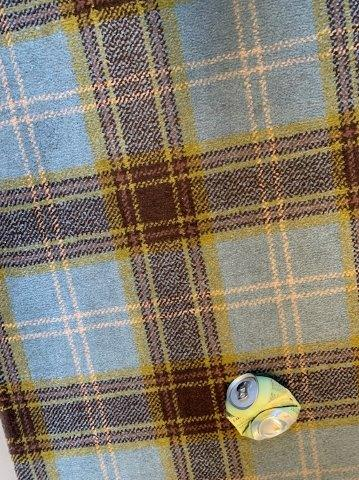kaleng: (225, 373, 302, 440)
